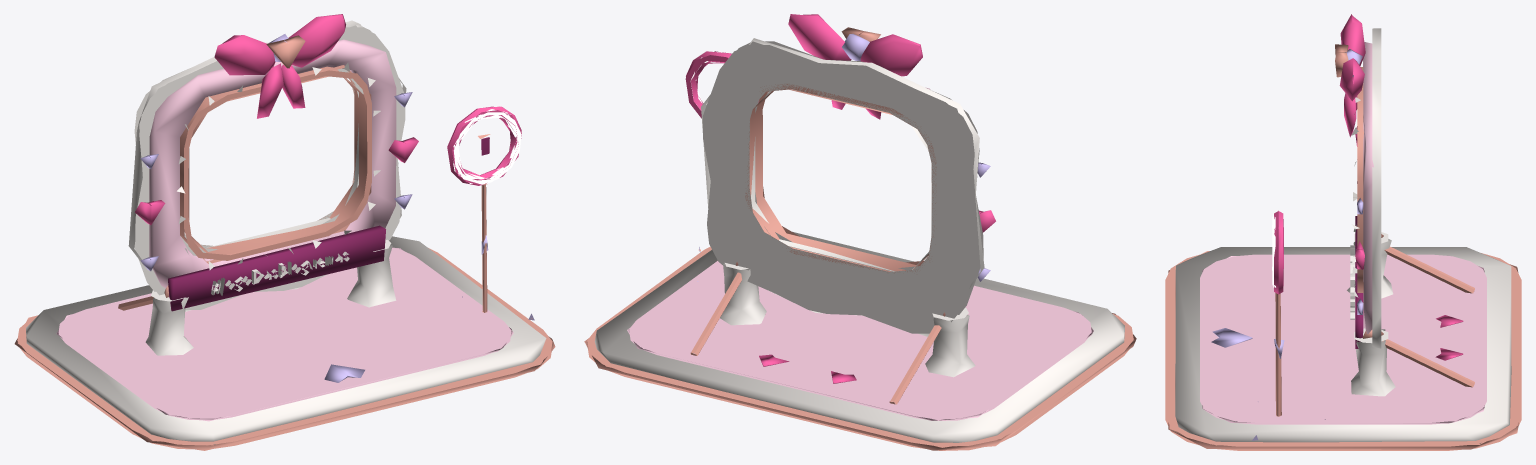
File: lod_photo_spot_frame.glb
3 renders of one model, left to right at view 1: azimuth 30°, elevation 25°; view 2: azimuth 150°, elevation 25°; view 3: azimuth 270°, elevation 25°, orthographic. The views are drawn at different scales.
Visible parts, largest first — view 1: photo_spot_frame; view 2: photo_spot_frame; view 3: photo_spot_frame.
Boxes of the visible parts, bbox=[...] form: photo_spot_frame: bbox=[14, 14, 555, 450]; photo_spot_frame: bbox=[584, 14, 1136, 450]; photo_spot_frame: bbox=[1165, 14, 1521, 450].
Size of the model in its own units: 5.05 by 3.71 by 3.85.
